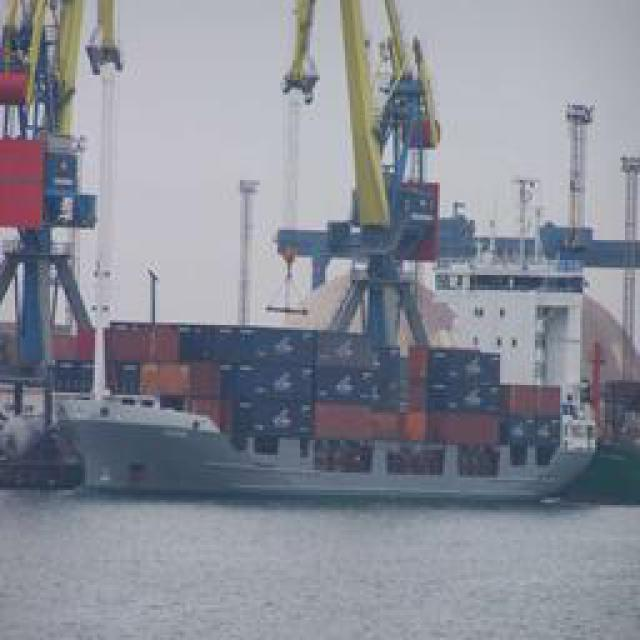Ship: (31, 386, 599, 506)
